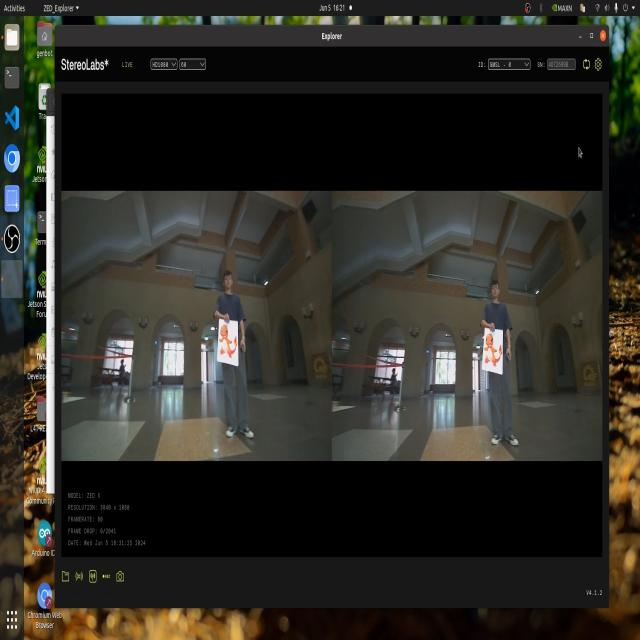red: (219, 314, 238, 363), (486, 326, 504, 377)
